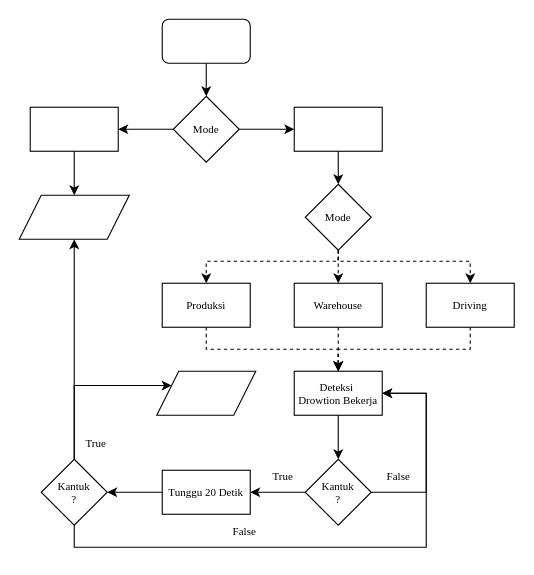
Some shapes in this 534 by 575 pixel diagram are drawn without their labels. Each missing label, with the centre of its shape:
"Admin" belongs at [73,128].
"Arduino" belongs at [206,392].
"Logs Pengguna" belongs at [73,216].
"Mulai" belongs at [205,40].
"Pengguna" belongs at [337,128].
